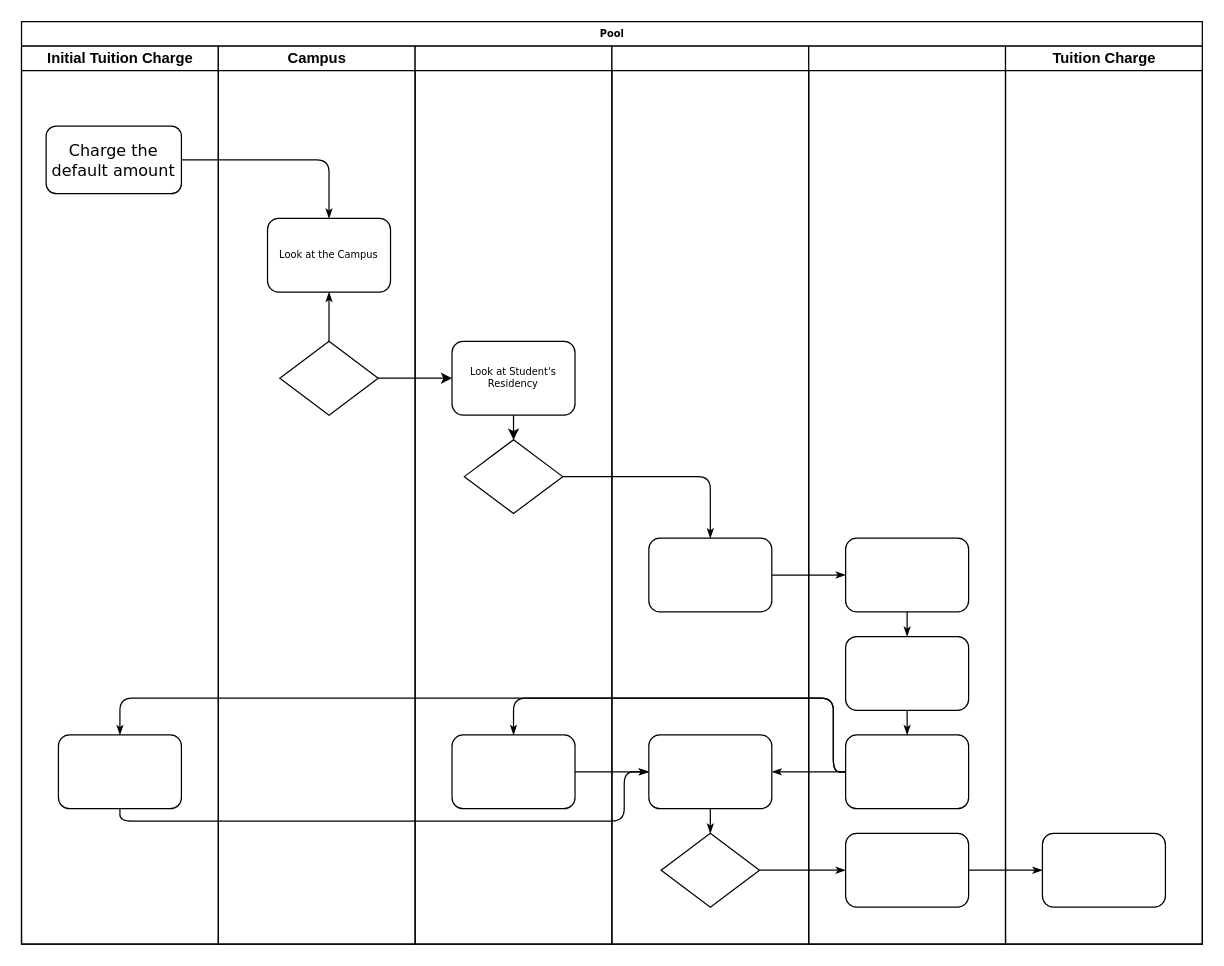
Image size: 1224x966. Some labels were removed from this diagram. The shapes that lost their labels are listed below. From the top down, each one's box as (x1, y1, x2, y2) in pixels, then its label:
(279, 340, 378, 415): Find 1/10
(414, 45, 612, 944): Student Residency
(611, 45, 809, 944): Attribute
(807, 45, 1006, 944): Level
